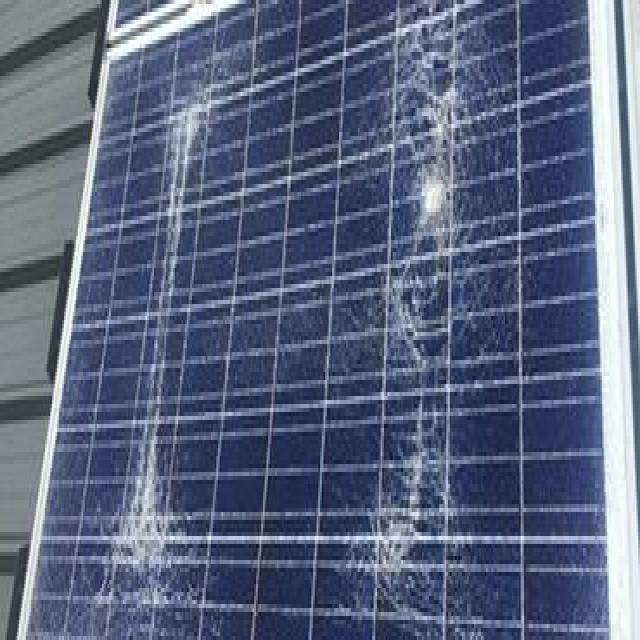Physical-damage: (337, 28, 537, 361), (324, 332, 522, 620), (88, 388, 208, 601), (123, 84, 249, 188)
